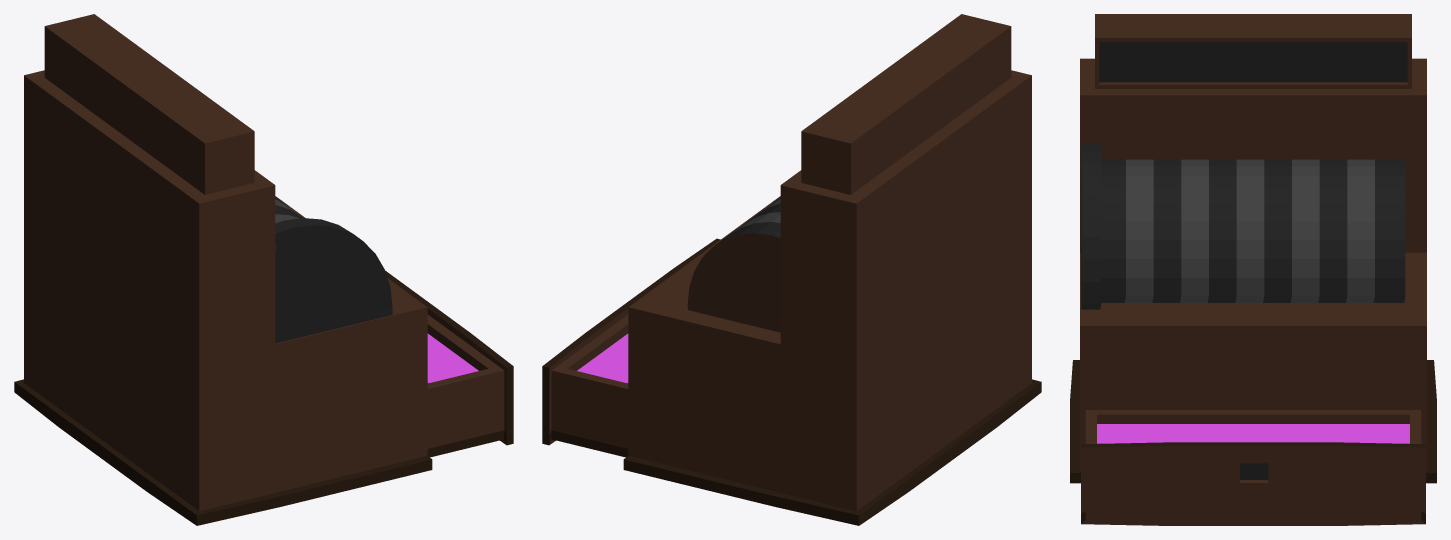
The model's file is cash register.fbx.
3 views of the same model, side by side, from view 1: azimuth 30°, elevation 25°; view 2: azimuth 150°, elevation 25°; view 3: azimuth 270°, elevation 25° (orthographic).
Visible parts, largest first — view 1: Cube; view 2: Cube; view 3: Cube.
Boxes of the visible parts, x1=… form: Cube: x1=14, y1=14, x2=513, y2=525; Cube: x1=542, y1=14, x2=1041, y2=525; Cube: x1=1070, y1=14, x2=1436, y2=525.
Size of the model in its own units: 213 by 233 by 211.
